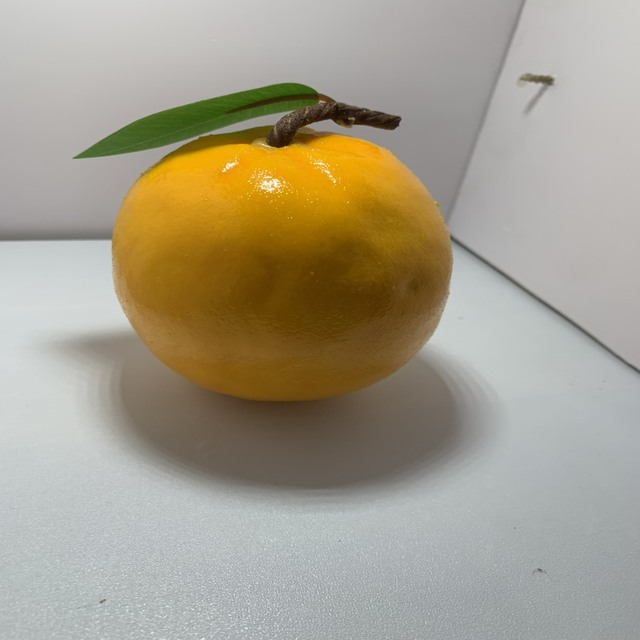Cam vang: (106, 86, 461, 408)
